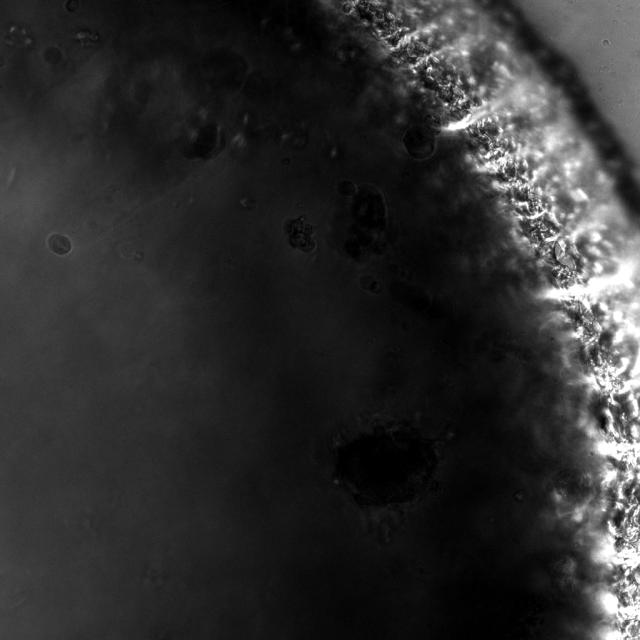organoid: (336, 428, 436, 506), (336, 179, 388, 228), (175, 111, 226, 160), (286, 216, 317, 252), (403, 124, 435, 158), (48, 233, 71, 254), (42, 46, 62, 65), (64, 0, 79, 13)
